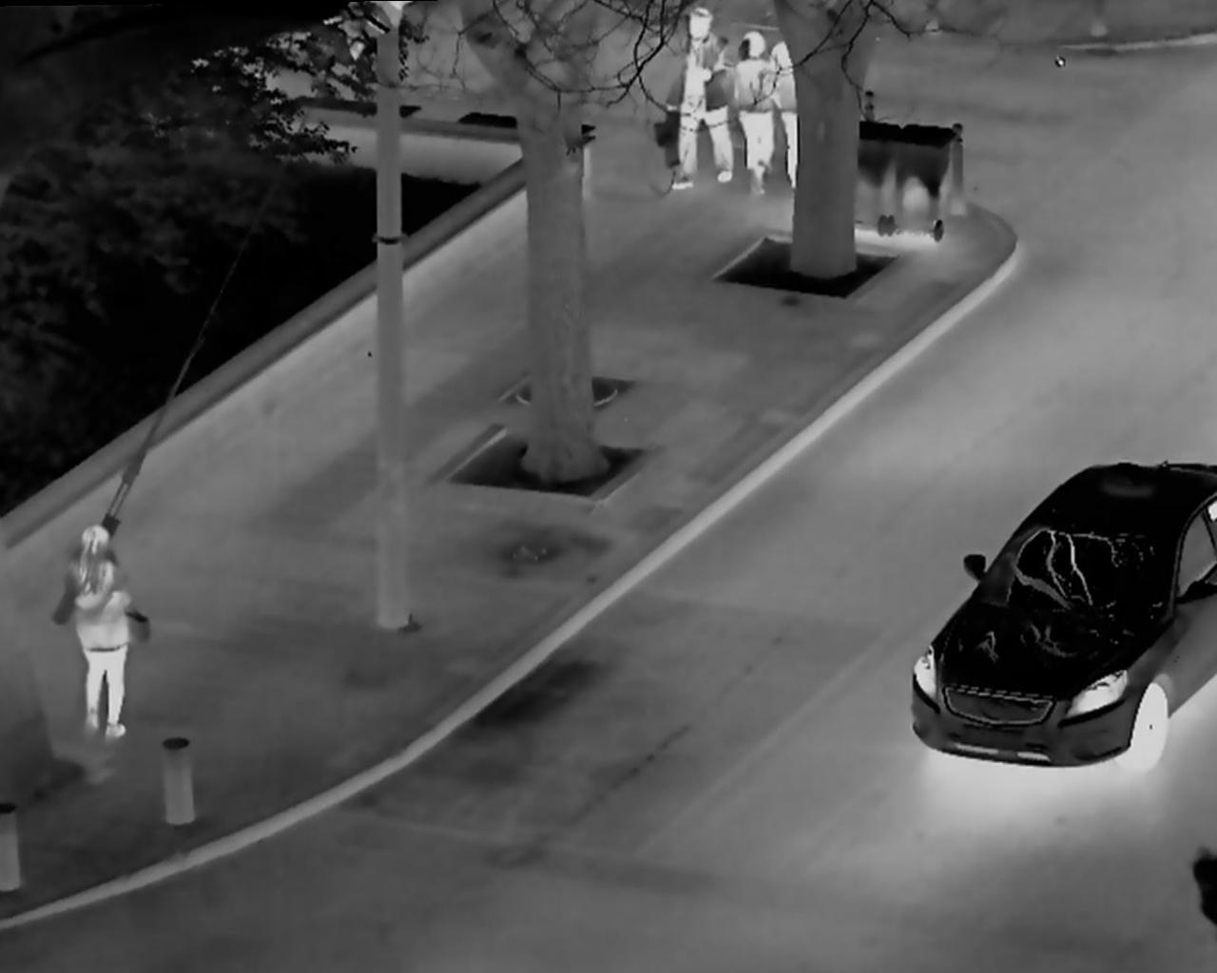person: (45, 519, 154, 754), (663, 2, 736, 196), (725, 26, 779, 199), (767, 33, 824, 188)
